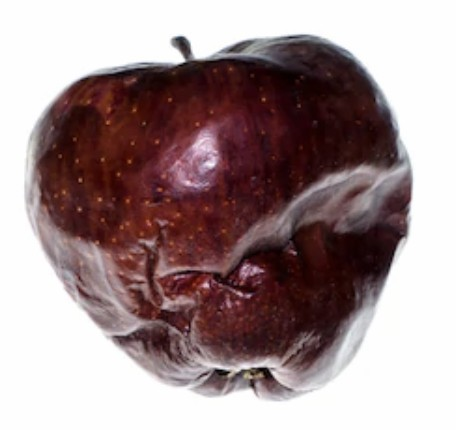rotten_apple: (19, 38, 415, 399)
